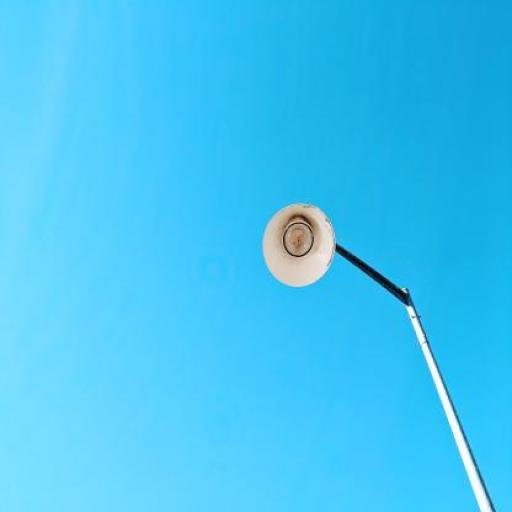street light: (262, 202, 497, 511)
